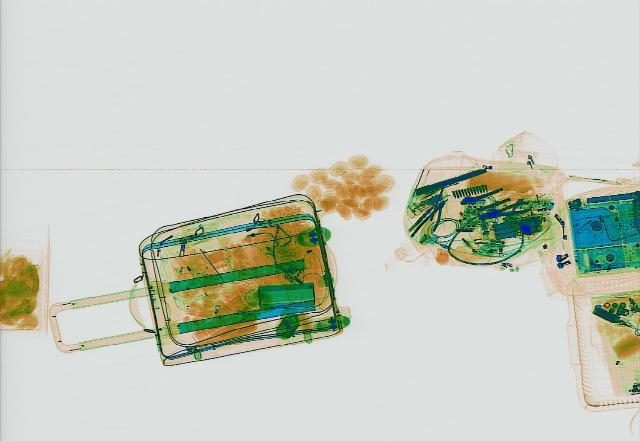Pliers: (408, 194, 450, 241), (473, 198, 535, 225)
Wrench: (455, 182, 507, 207)
